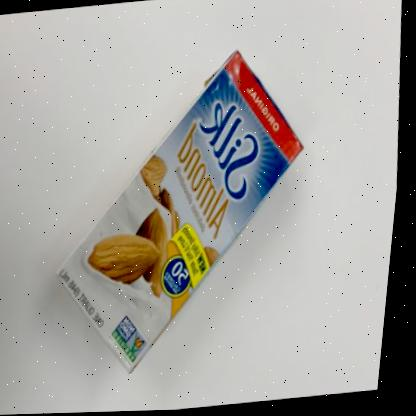Paper: (60, 52, 305, 373)
